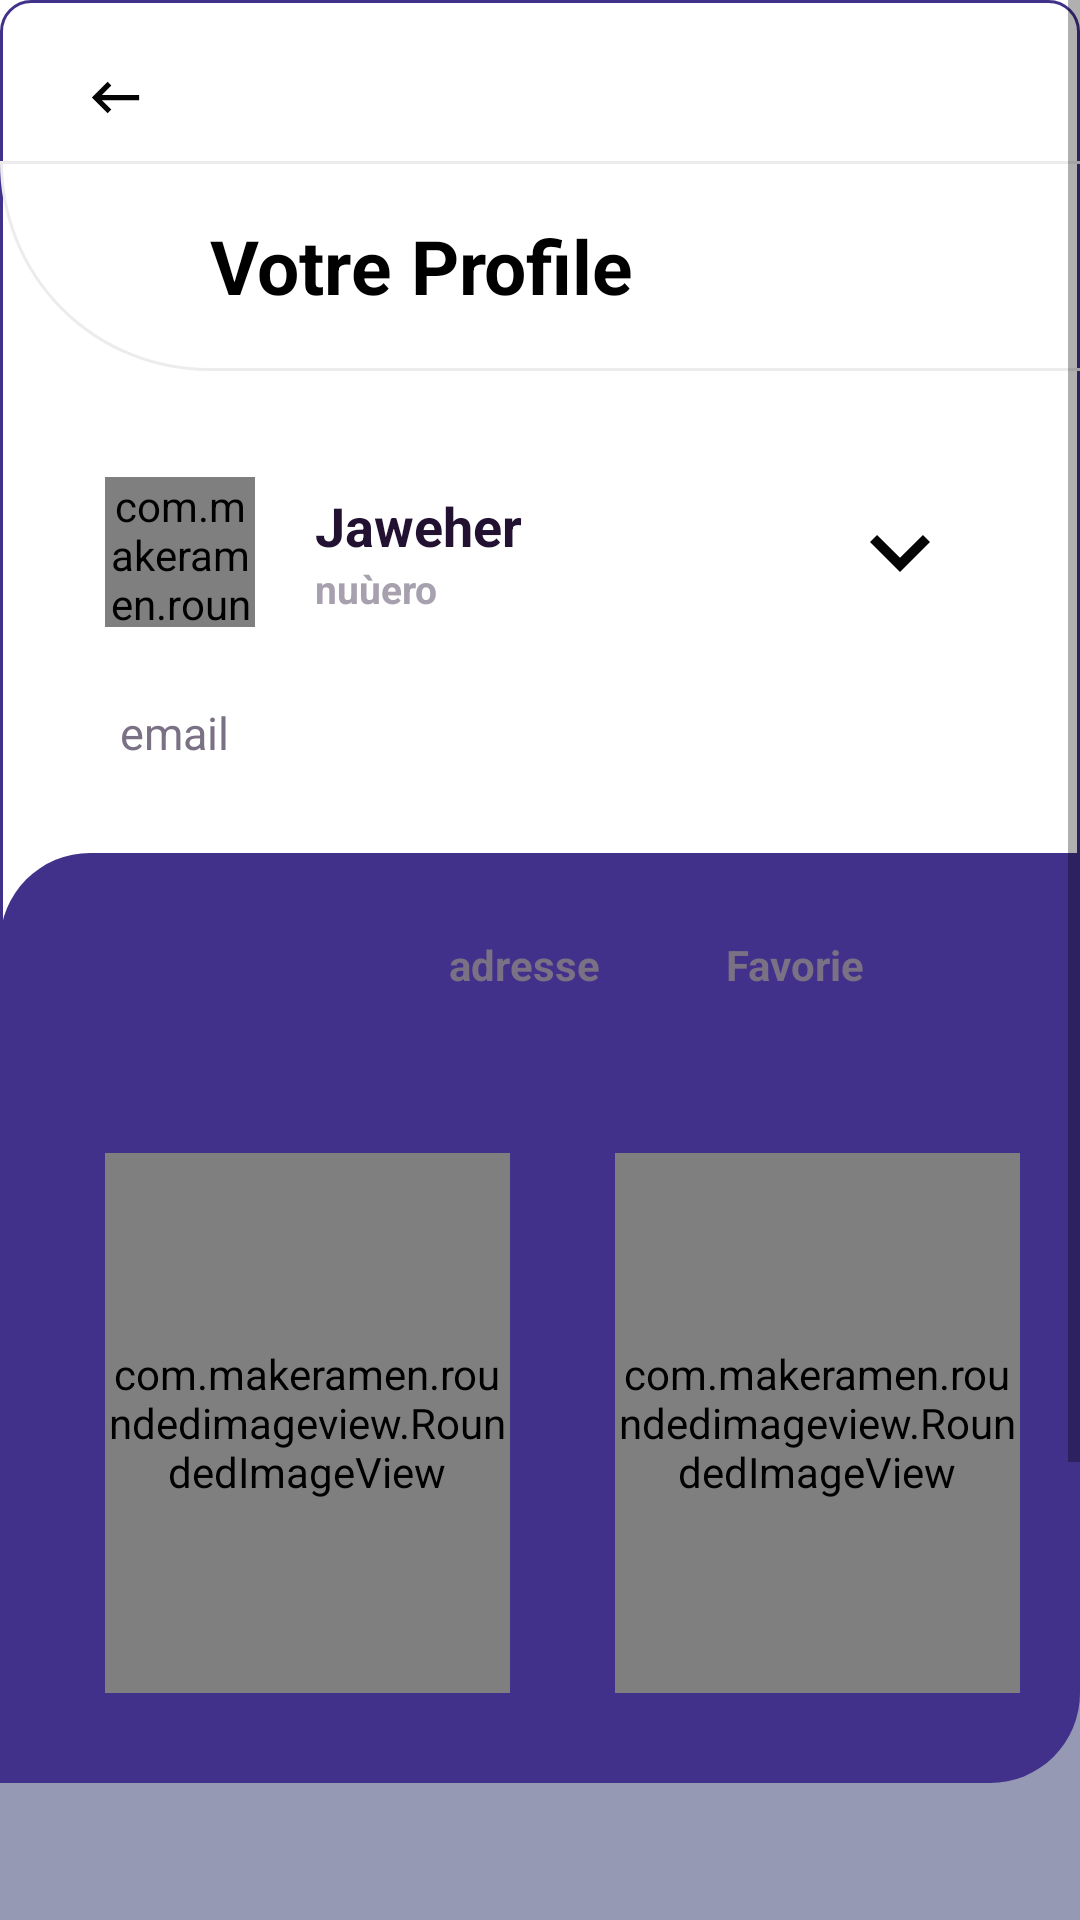

Named icons in this screenshot (1080px x 1920px) and their bounding boxes, (x1, y1, x2, y2):
back: (92, 82, 140, 113)
